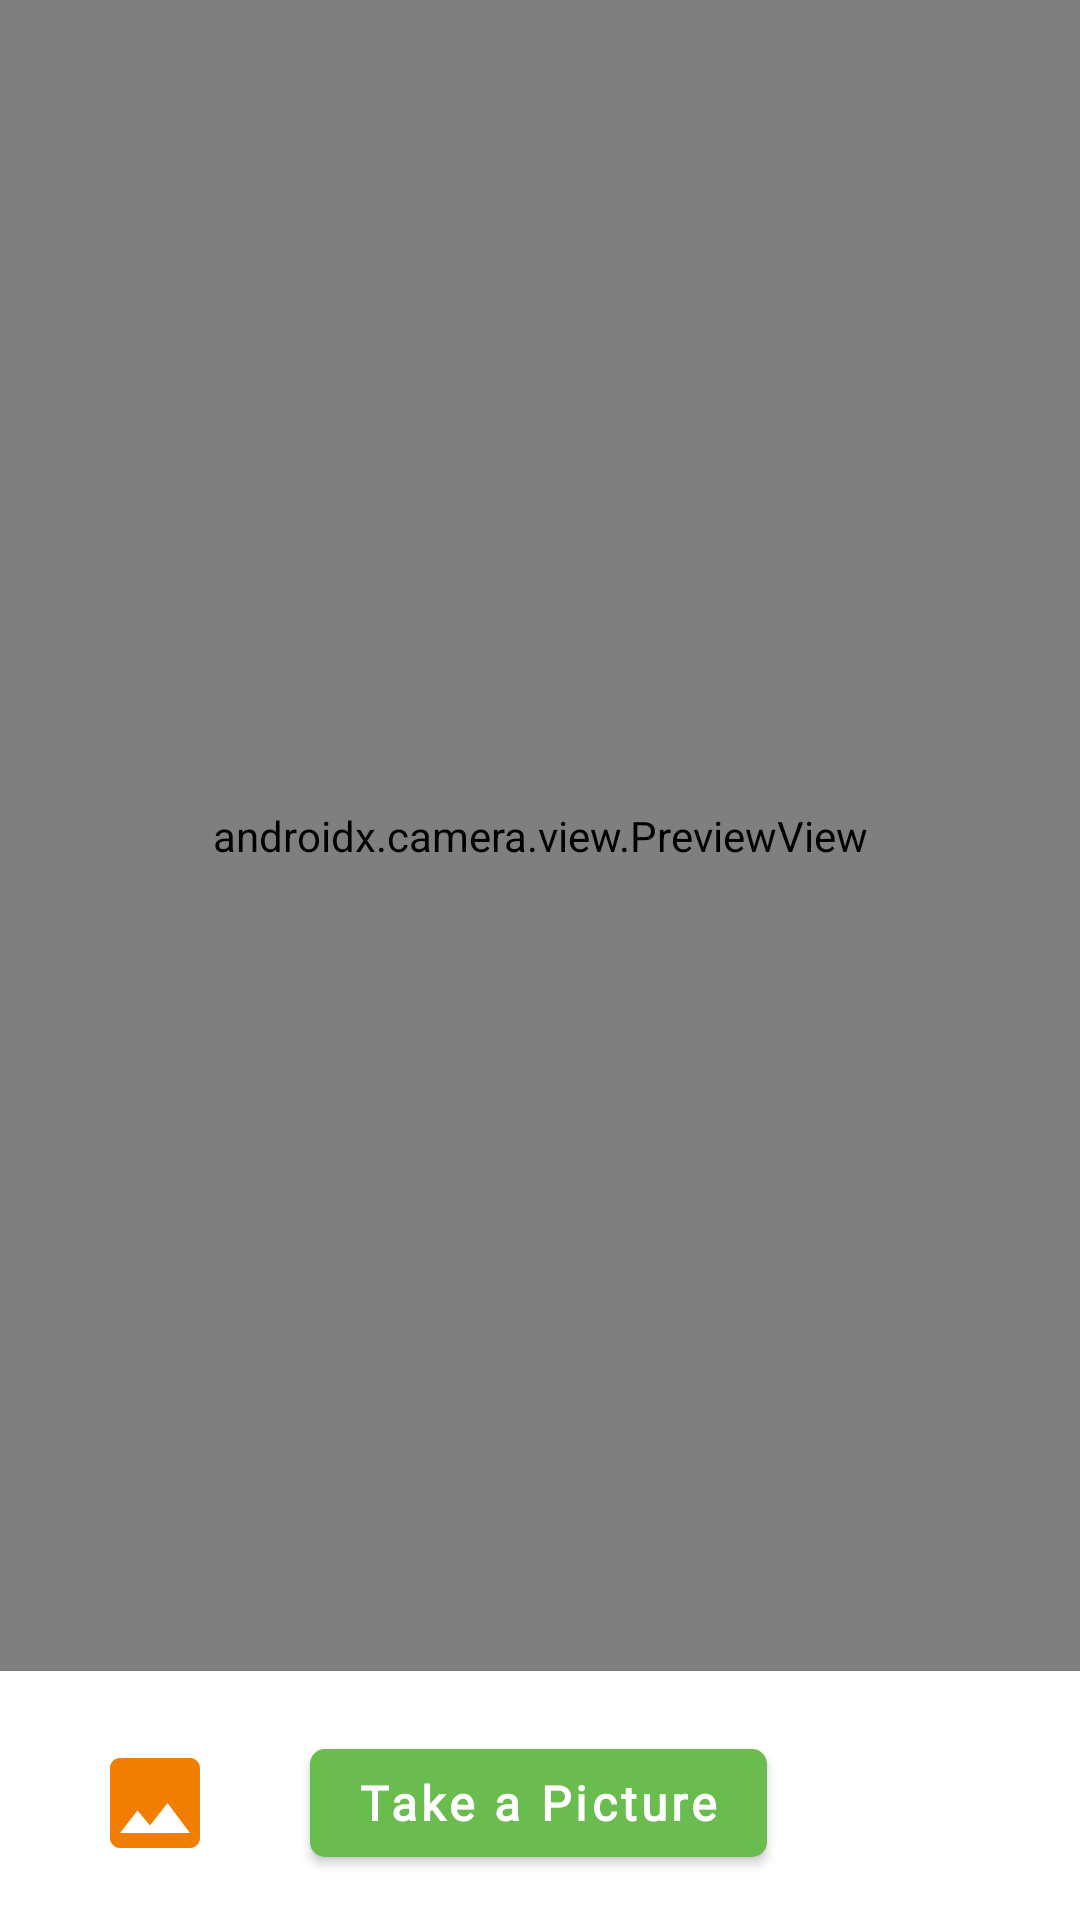

Named icons in this screenshot (1080*1920) and their bounding boxes, (left=x1, top=y1, right=x2, bottom=y2):
galery: (left=110, top=1758, right=200, bottom=1848)
